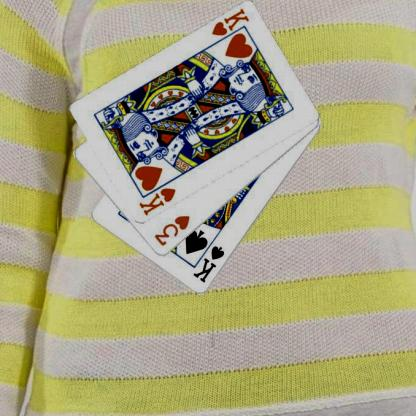3H: (151, 213, 191, 248)
KH: (136, 186, 178, 218), (209, 6, 250, 38)
KS: (190, 243, 226, 285)
